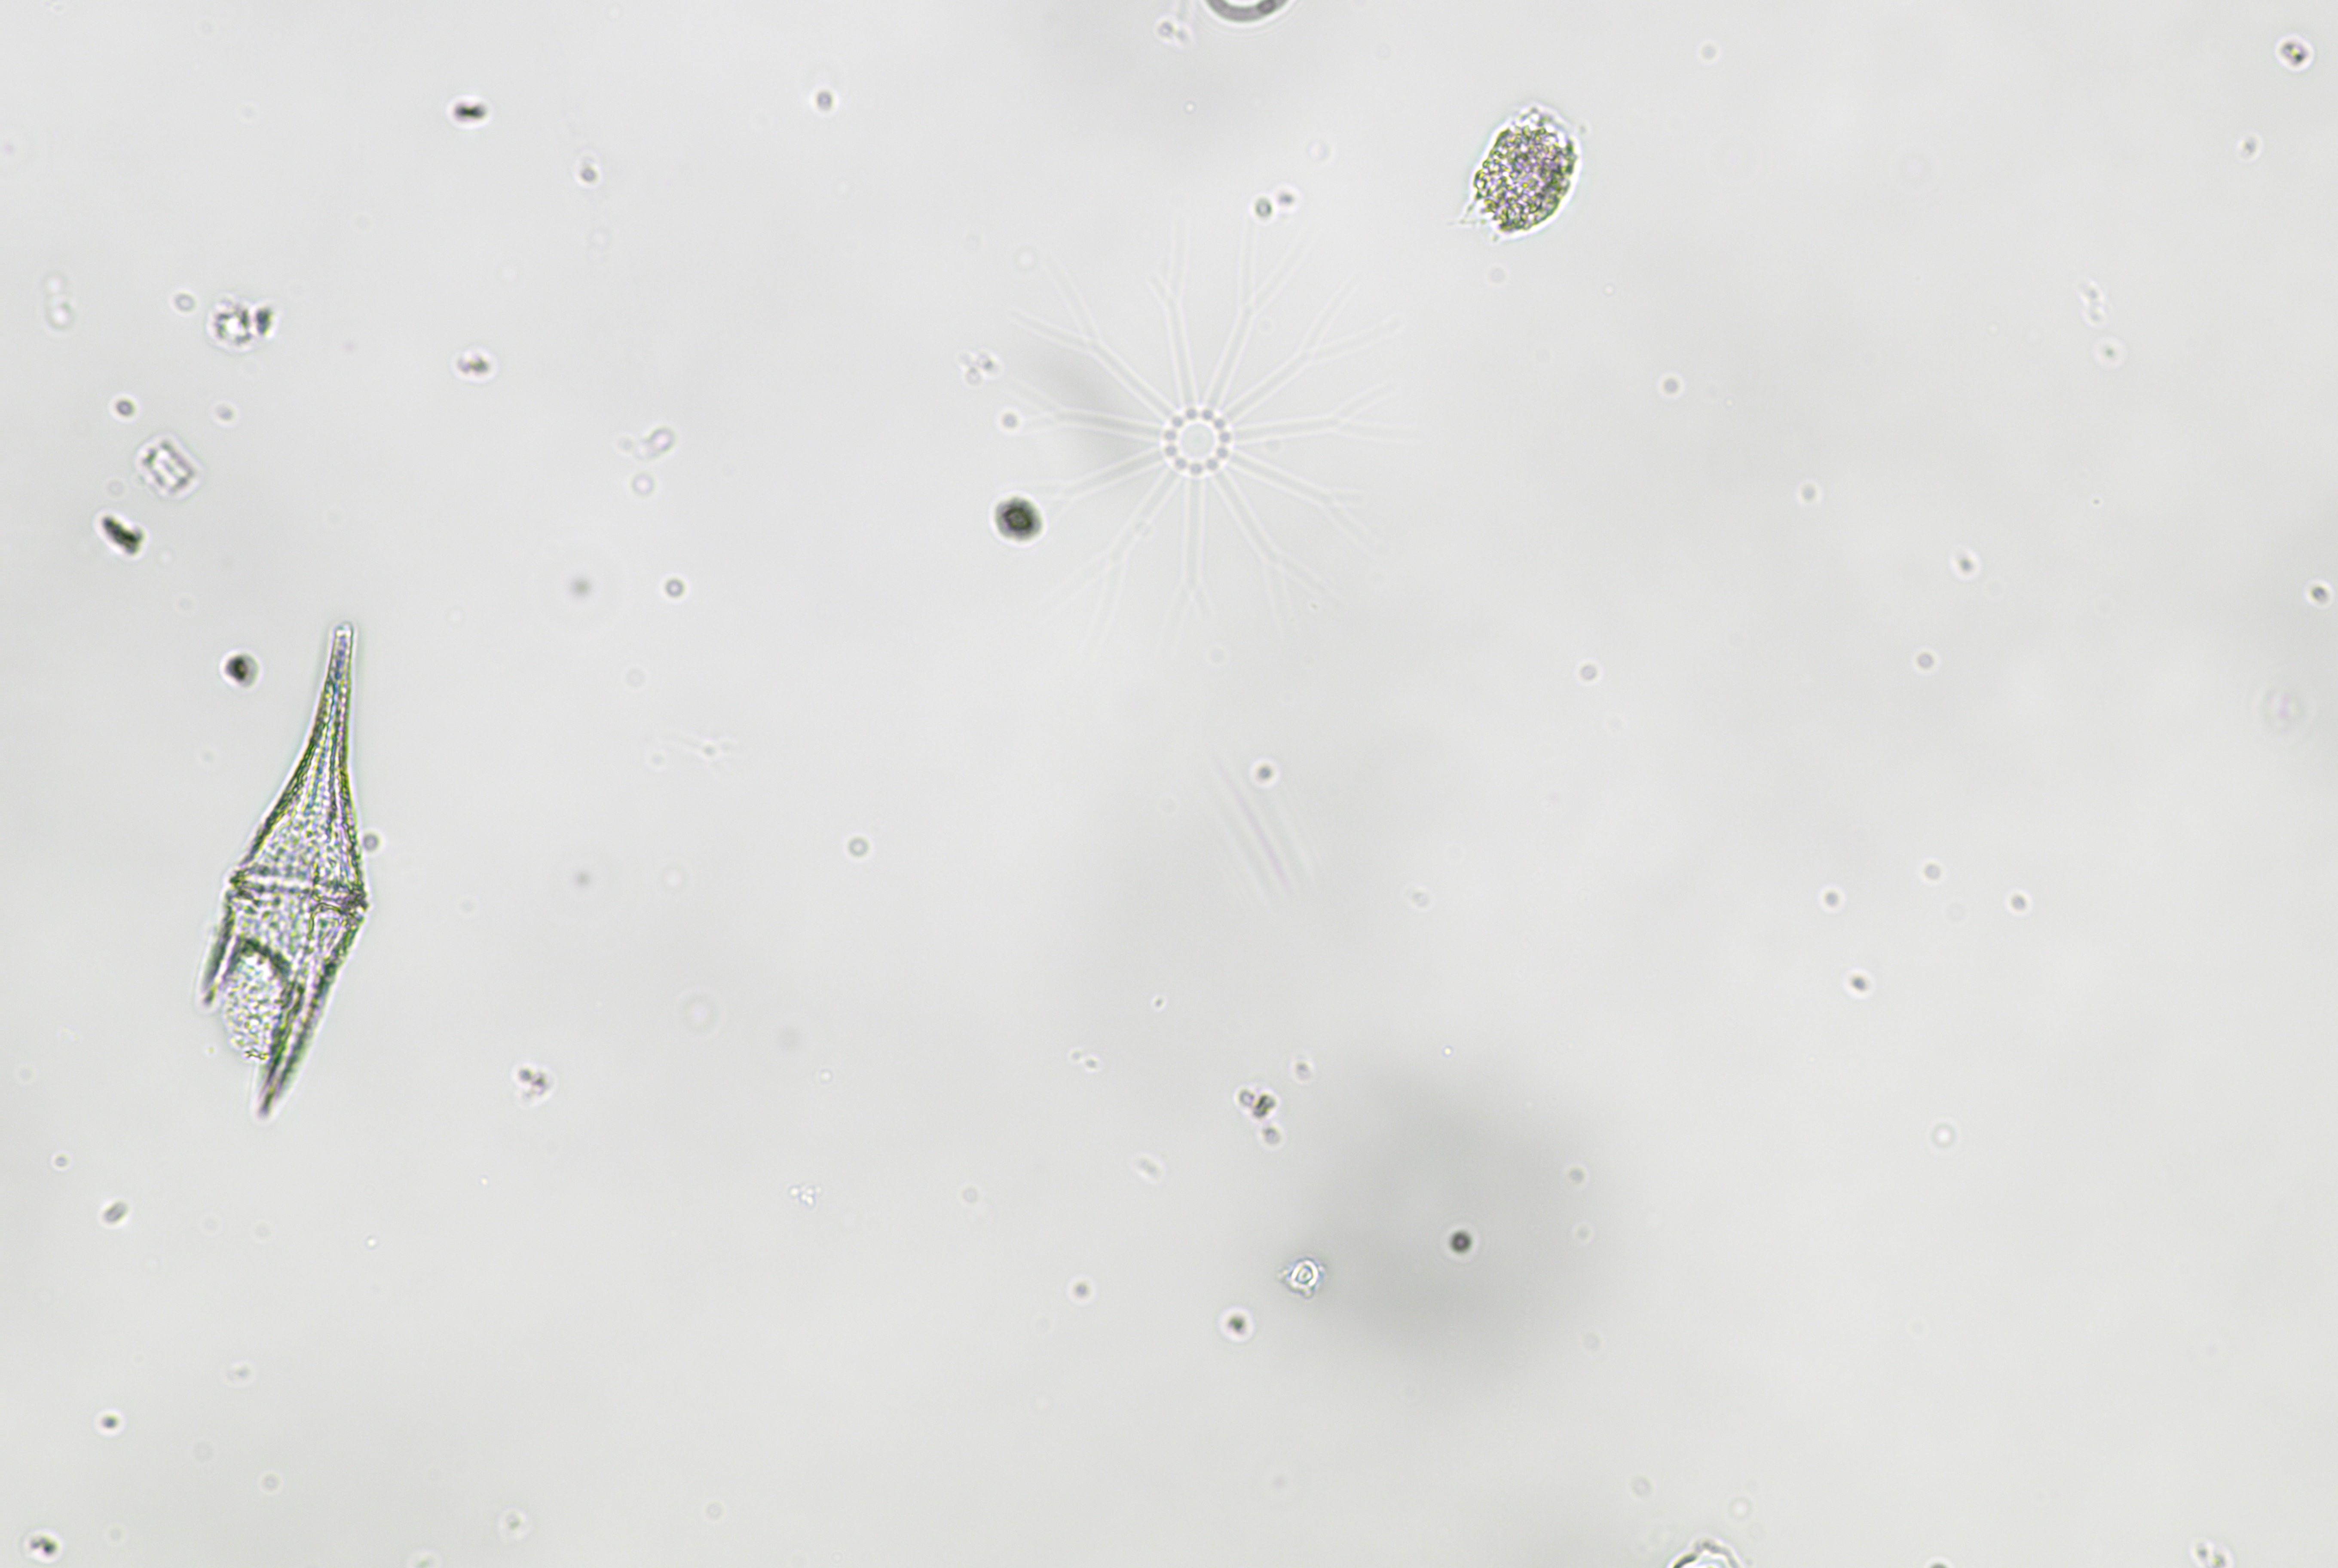bacteriastrum: (966, 212, 1421, 675)
ceratium furca: (180, 609, 390, 1116)
